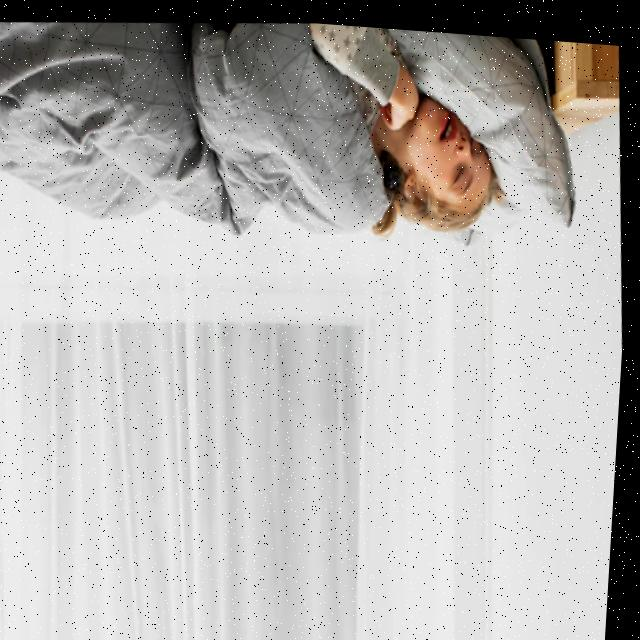sleeping-person: (0, 0, 518, 302)
